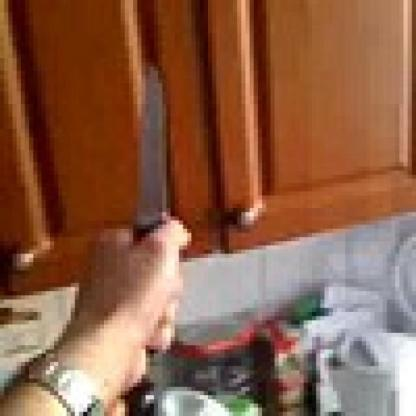Knife: (133, 58, 175, 242)
